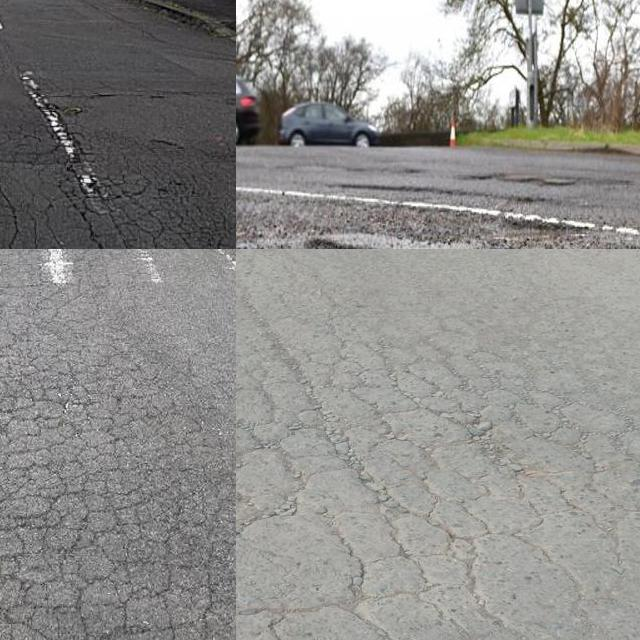Retak Buaya: (236, 309, 640, 640), (0, 279, 236, 640), (0, 154, 197, 249)
